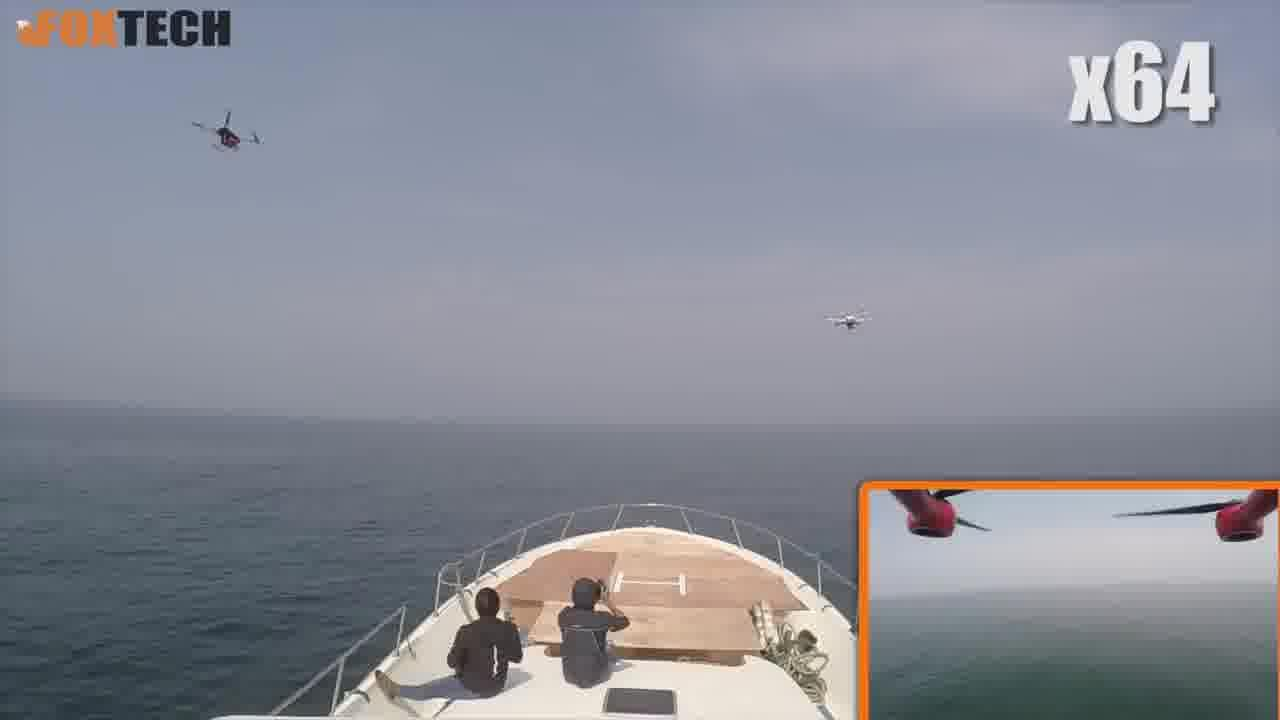drone: (178, 96, 267, 157), (809, 290, 887, 342)
